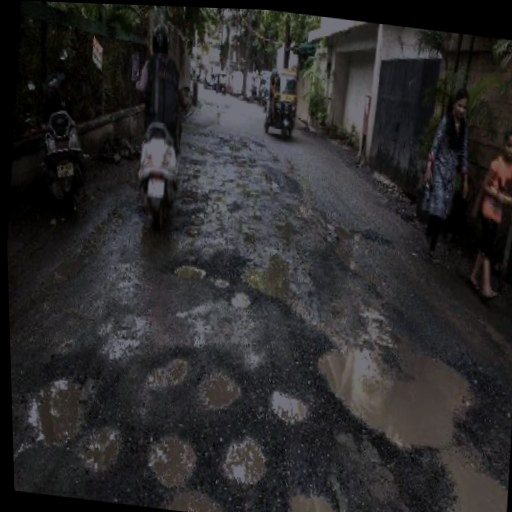pothole: (307, 318, 487, 459), (16, 353, 106, 453), (233, 238, 321, 316), (435, 450, 511, 512), (144, 425, 201, 488), (219, 428, 271, 485), (75, 415, 124, 474), (143, 345, 196, 397), (193, 361, 246, 410), (283, 476, 353, 512), (165, 482, 233, 512), (268, 386, 311, 423), (170, 256, 208, 282), (228, 287, 253, 310), (212, 276, 231, 289)
